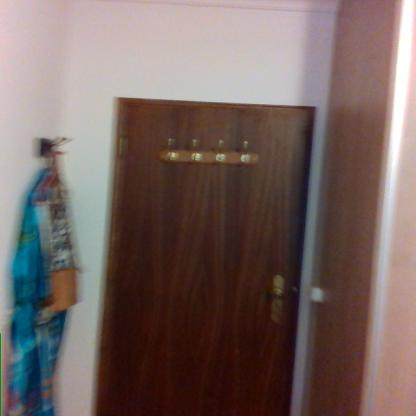closed: (103, 92, 317, 415)
